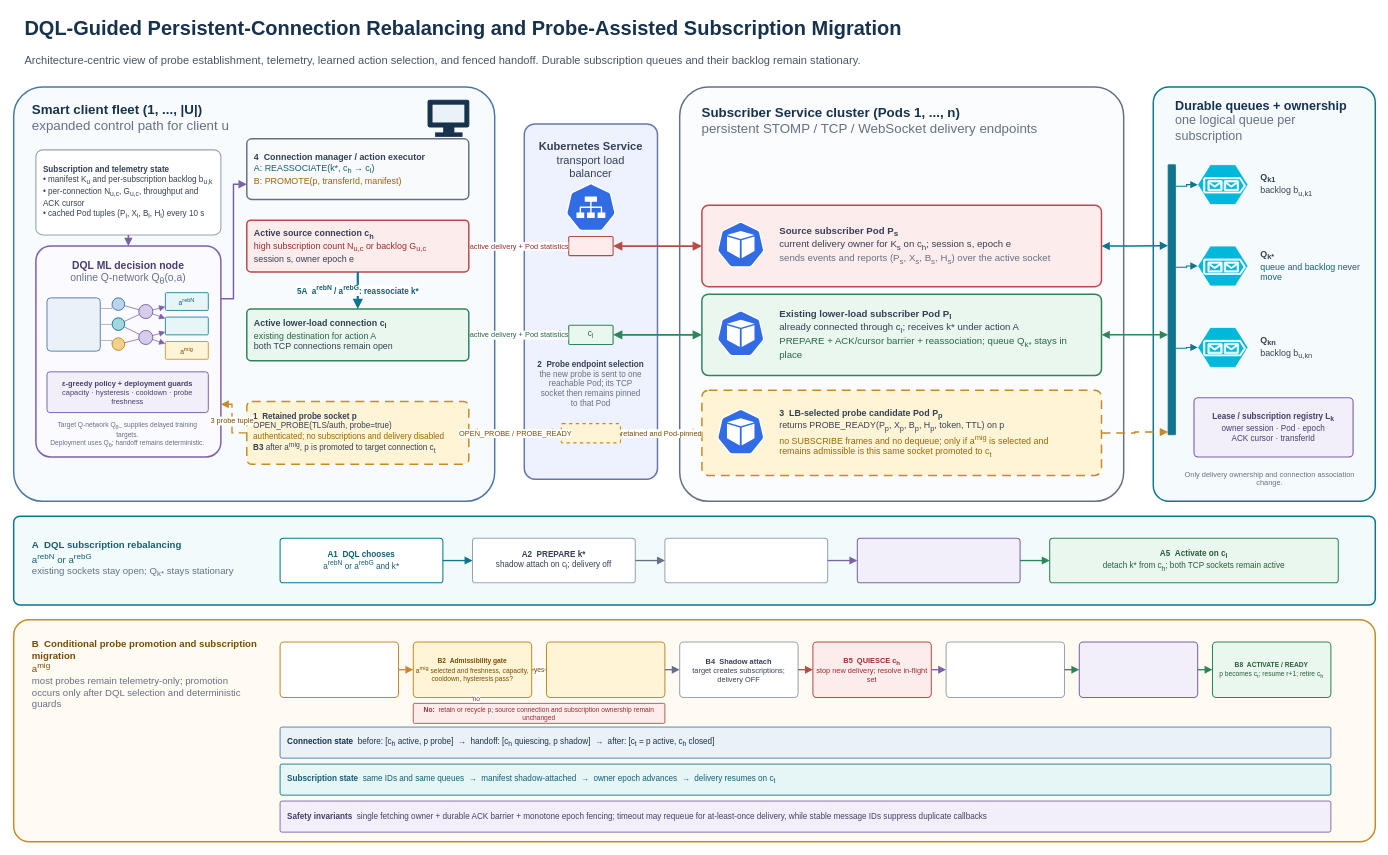
Some shapes in this 1388 by 855 pixel diagram are drawn without their labels. The box of each missing label's shape, as (x1, y1, x2, y2) in pixels:
a rebG: (165, 316, 208, 335)
A3 Quiesce k* ACK and cursor barrier on c h: (664, 537, 828, 583)
A4 Update association lease owner/cursor moves to c l: (856, 537, 1020, 583)
B1 Evaluate p DQL scores a mig for retained P p: (279, 641, 399, 698)
B3 PROMOTE same p token + transferId + manifest + source epoch: (546, 641, 665, 698)
B6 ACK barrier durable cursor r; ACK/NACK or requeue: (945, 641, 1065, 698)
B7 Lease CAS (P s , e) → (P p , e+1): (1078, 641, 1198, 698)
c h: (568, 236, 613, 256)
o u (t) B, N, G, X, H, probe, epoch: (46, 297, 100, 351)
probe p: (560, 423, 621, 443)
